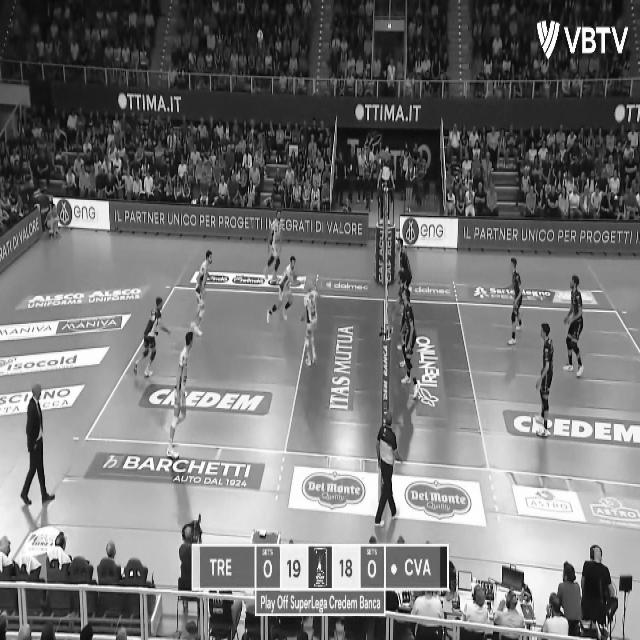volleyball court: (84, 282, 639, 482)
